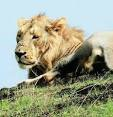lion: (13, 15, 85, 79)
